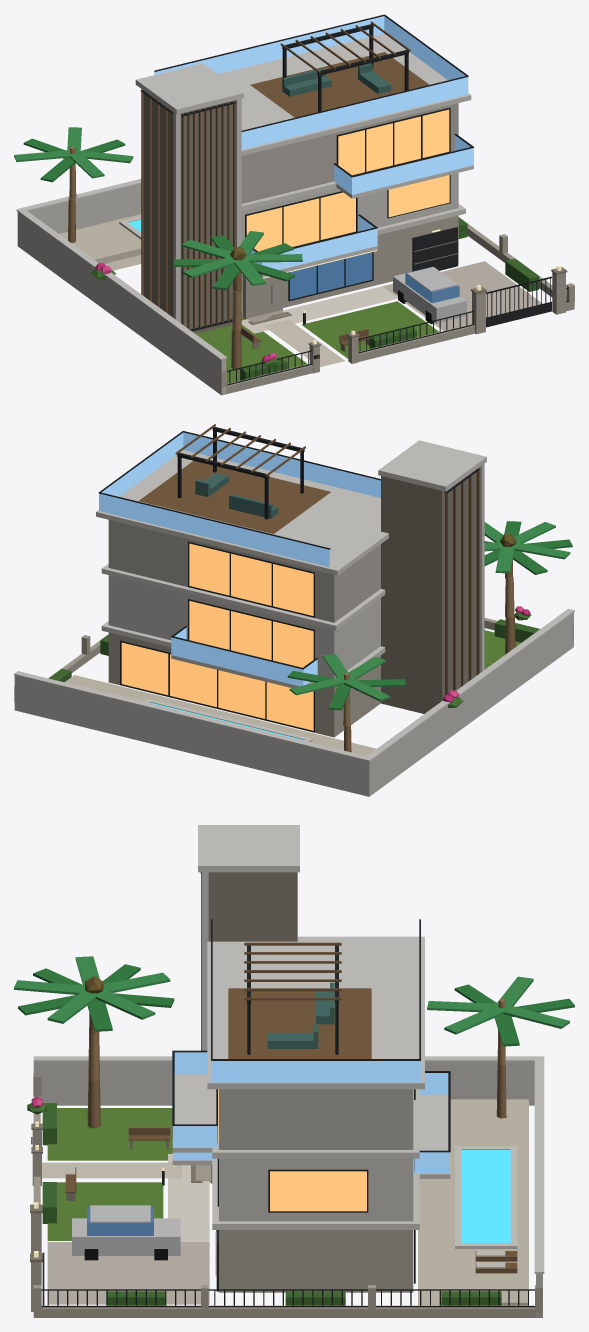
Rendered from villa-c4.glb.
3 renders of one model, top to bottom at view 1: azimuth 30°, elevation 25°; view 2: azimuth 150°, elevation 25°; view 3: azimuth 270°, elevation 25°, orthographic. The views are drawn at different scales.
Size of the model in its own units: 22.94 by 13.85 by 24.24.
